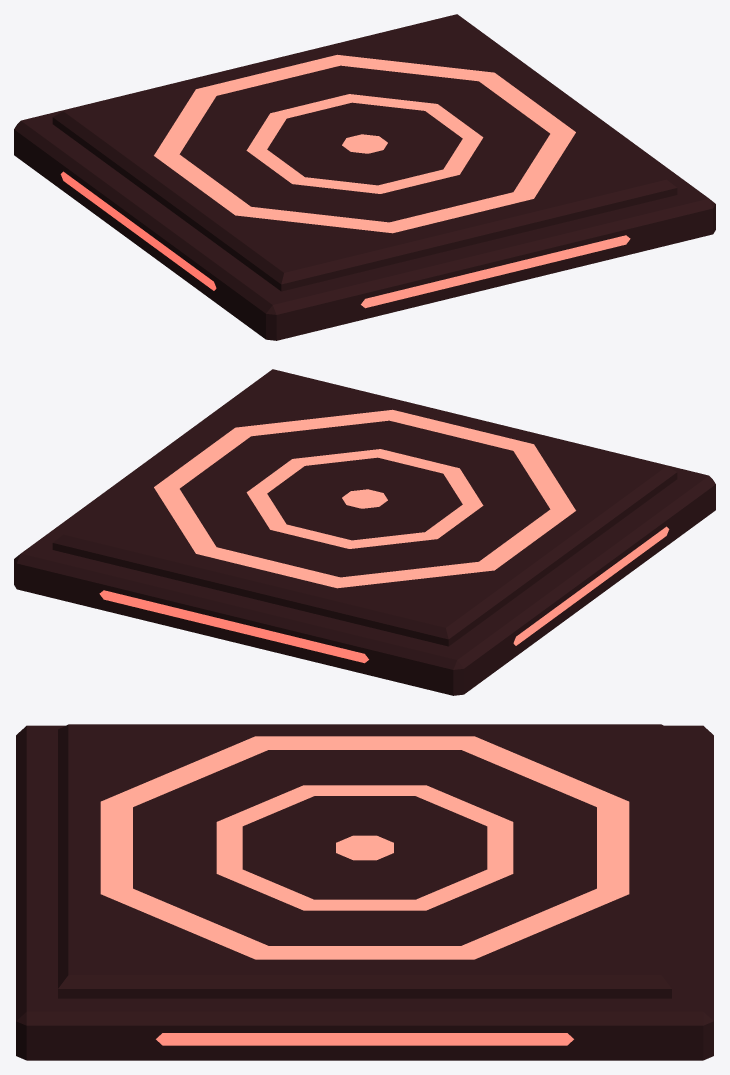
The model's file is platform_nightmare.glb.
3 views of the same model, one above another, from view 1: azimuth 30°, elevation 25°; view 2: azimuth 150°, elevation 25°; view 3: azimuth 270°, elevation 25° (orthographic). The views are drawn at different scales.
Visible parts, largest first — view 1: Mesh; view 2: Mesh; view 3: Mesh.
Boxes of the visible parts, x1,y1,x2,y2 form: Mesh: [14, 14, 715, 340]; Mesh: [14, 369, 715, 695]; Mesh: [16, 724, 713, 1060].
Size of the model in its own units: 2.01 by 0.206 by 2.01.
